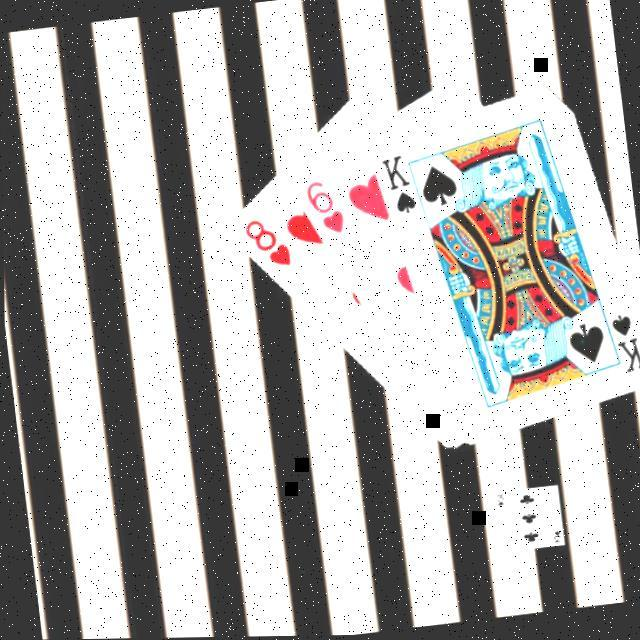6H: (301, 174, 349, 241)
8H: (238, 213, 295, 275)
KS: (376, 152, 420, 222), (598, 307, 640, 380)
